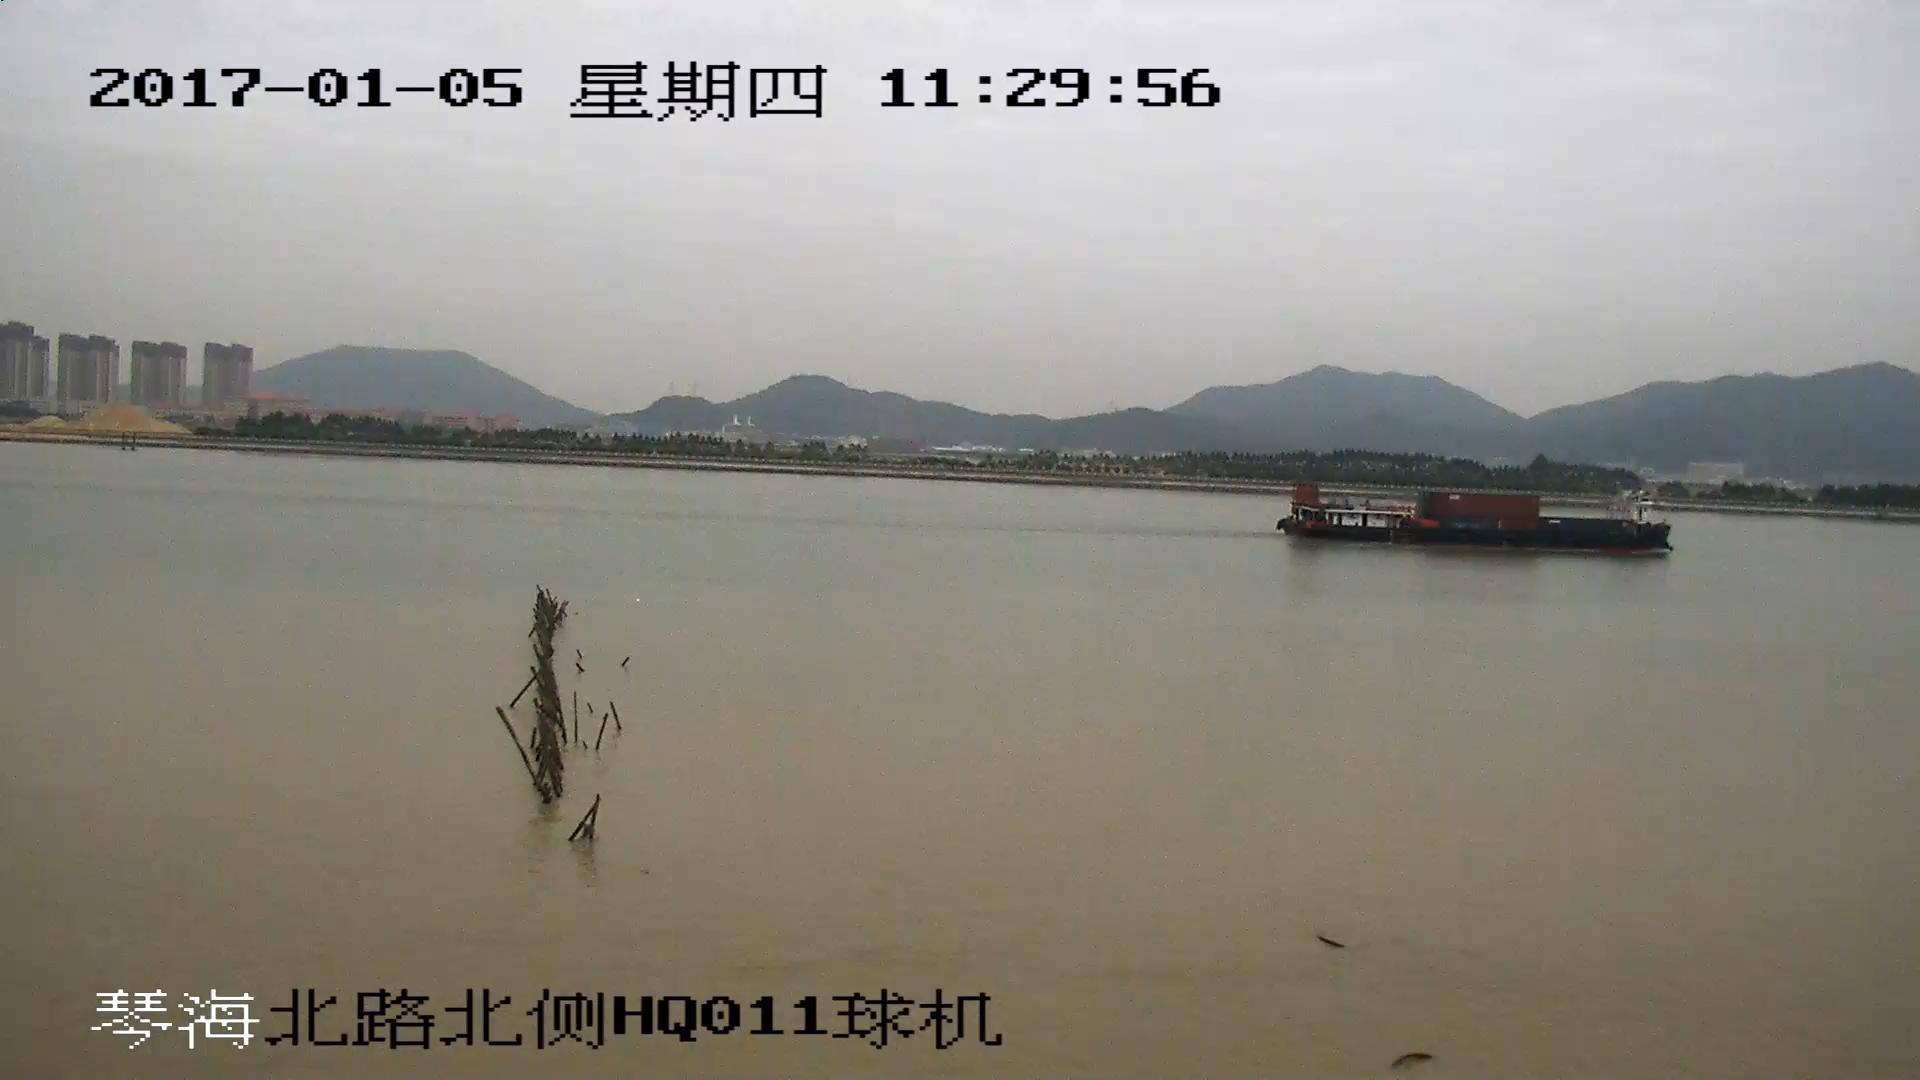container ship: (1278, 484, 1674, 555)
